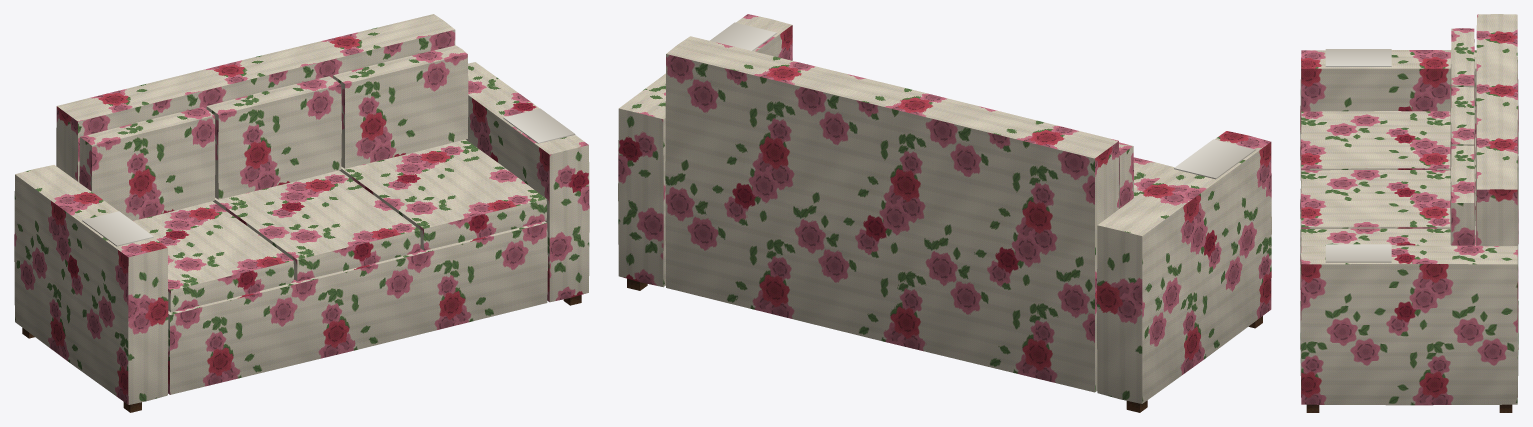
Rendered from couch.glb.
The picture shows the model from 3 angles, left to right: view 1: azimuth 30°, elevation 25°; view 2: azimuth 150°, elevation 25°; view 3: azimuth 270°, elevation 25°; orthographic projection. The views are drawn at different scales.
Parts seen in each view (by area): view 1: base, arm_L, back, seat_cushion_1, seat_cushion_2, arm_R, back_cushion_2, back_cushion_1, back_cushion_0, seat_cushion_0, doily_R, doily_L; view 2: back, arm_L, arm_R, doily_L, doily_R, back_cushion_0, seat_cushion_0; view 3: arm_R, back, seat_cushion_0, seat_cushion_1, arm_L, seat_cushion_2, back_cushion_2, back_cushion_0, back_cushion_1, doily_R, doily_L.
Boxes of the visible parts, x1=… form: base: x1=168, y1=221, x2=547, y2=394; arm_L: x1=14, y1=165, x2=168, y2=404; back: x1=56, y1=14, x2=455, y2=182; seat_cushion_1: x1=213, y1=170, x2=420, y2=281; seat_cushion_2: x1=339, y1=139, x2=547, y2=250; arm_R: x1=466, y1=62, x2=589, y2=302; back_cushion_2: x1=333, y1=45, x2=468, y2=168; back_cushion_1: x1=206, y1=76, x2=341, y2=199; back_cushion_0: x1=79, y1=107, x2=215, y2=220; seat_cushion_0: x1=133, y1=201, x2=294, y2=312; doily_R: x1=503, y1=108, x2=575, y2=143; doily_L: x1=82, y1=211, x2=153, y2=246; back: x1=665, y1=36, x2=1119, y2=392; arm_L: x1=1097, y1=131, x2=1271, y2=403; arm_R: x1=618, y1=14, x2=792, y2=287; doily_L: x1=1174, y1=139, x2=1255, y2=179; doily_R: x1=710, y1=22, x2=776, y2=50; back_cushion_0: x1=1119, y1=142, x2=1133, y2=208; seat_cushion_0: x1=1133, y1=157, x2=1174, y2=197; arm_R: x1=1300, y1=245, x2=1518, y2=405; back: x1=1475, y1=14, x2=1518, y2=274; seat_cushion_0: x1=1300, y1=111, x2=1475, y2=177; seat_cushion_1: x1=1300, y1=169, x2=1475, y2=236; arm_L: x1=1300, y1=50, x2=1518, y2=180; seat_cushion_2: x1=1300, y1=228, x2=1450, y2=277; back_cushion_2: x1=1450, y1=145, x2=1475, y2=245; back_cushion_0: x1=1450, y1=28, x2=1475, y2=125; back_cushion_1: x1=1450, y1=87, x2=1475, y2=184; doily_R: x1=1325, y1=244, x2=1391, y2=262; doily_L: x1=1325, y1=49, x2=1391, y2=66.
Size of the model in its own units: 2 by 0.9 by 0.86.
3 materials, 2 textured.
